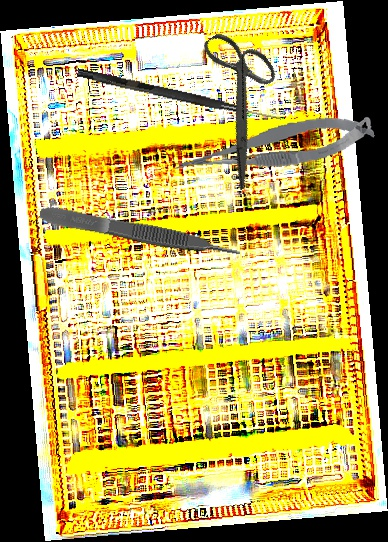Hook Surgical: (76, 68, 283, 123)
Iris Scissors: (159, 18, 321, 191)
Micro Scissor: (171, 111, 377, 179)
Tissue Forceps: (38, 202, 242, 265)
